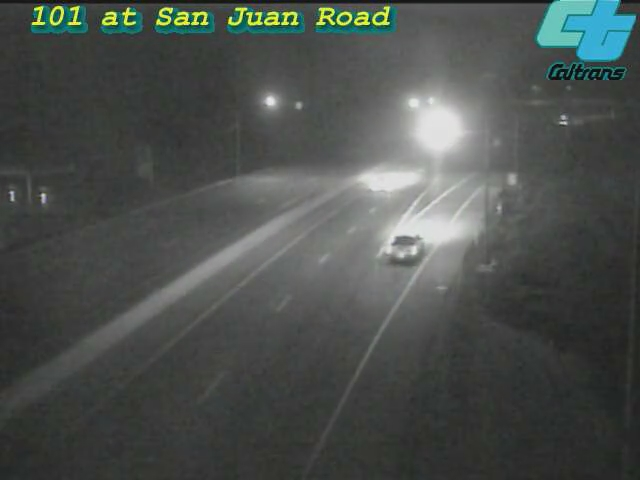vehicle: (343, 140, 423, 220), (365, 208, 445, 288), (411, 106, 461, 156), (543, 94, 593, 144)
